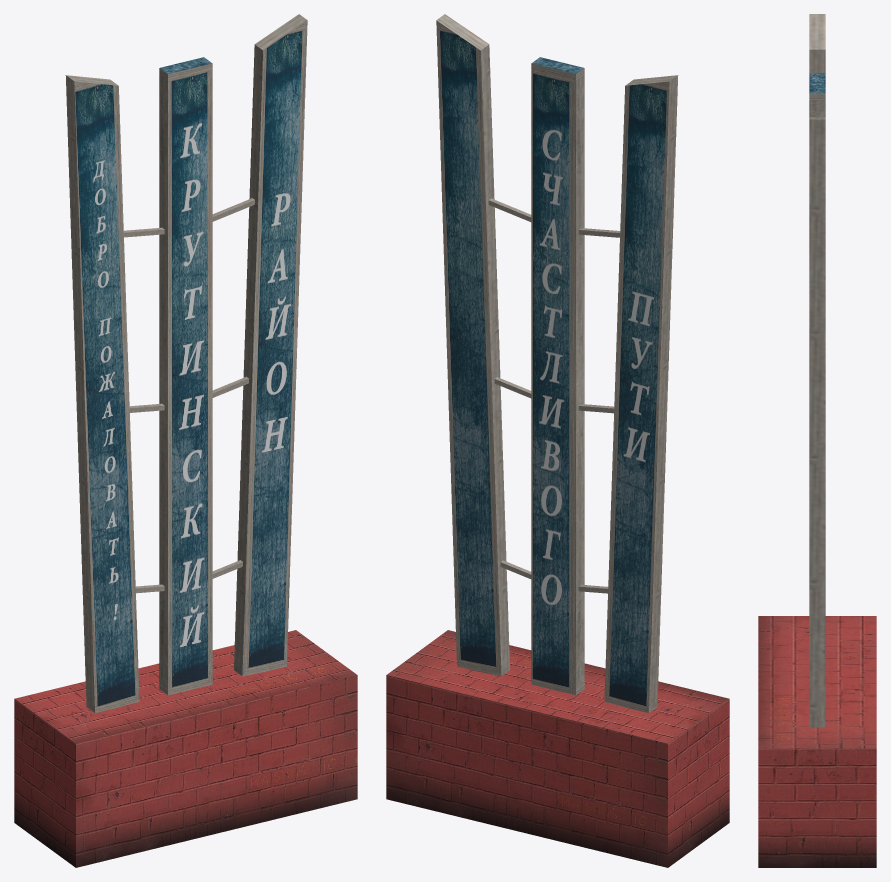
File: r402_krutinski_rayon.FBX
3 renders of one model, left to right at view 1: azimuth 30°, elevation 25°; view 2: azimuth 150°, elevation 25°; view 3: azimuth 270°, elevation 25°, orthographic. The views are drawn at different scales.
Parts seen in each view (by area): view 1: r402_krutinski_rayon; view 2: r402_krutinski_rayon; view 3: r402_krutinski_rayon.
Part boxes in pixels (<box>): r402_krutinski_rayon: <box>14,14,357,867</box>; r402_krutinski_rayon: <box>386,14,729,867</box>; r402_krutinski_rayon: <box>758,14,876,867</box>.
Bounding box in the file's own units: 190 × 71.79 × 493.
